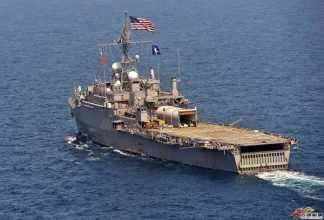warship: (62, 11, 306, 174)
